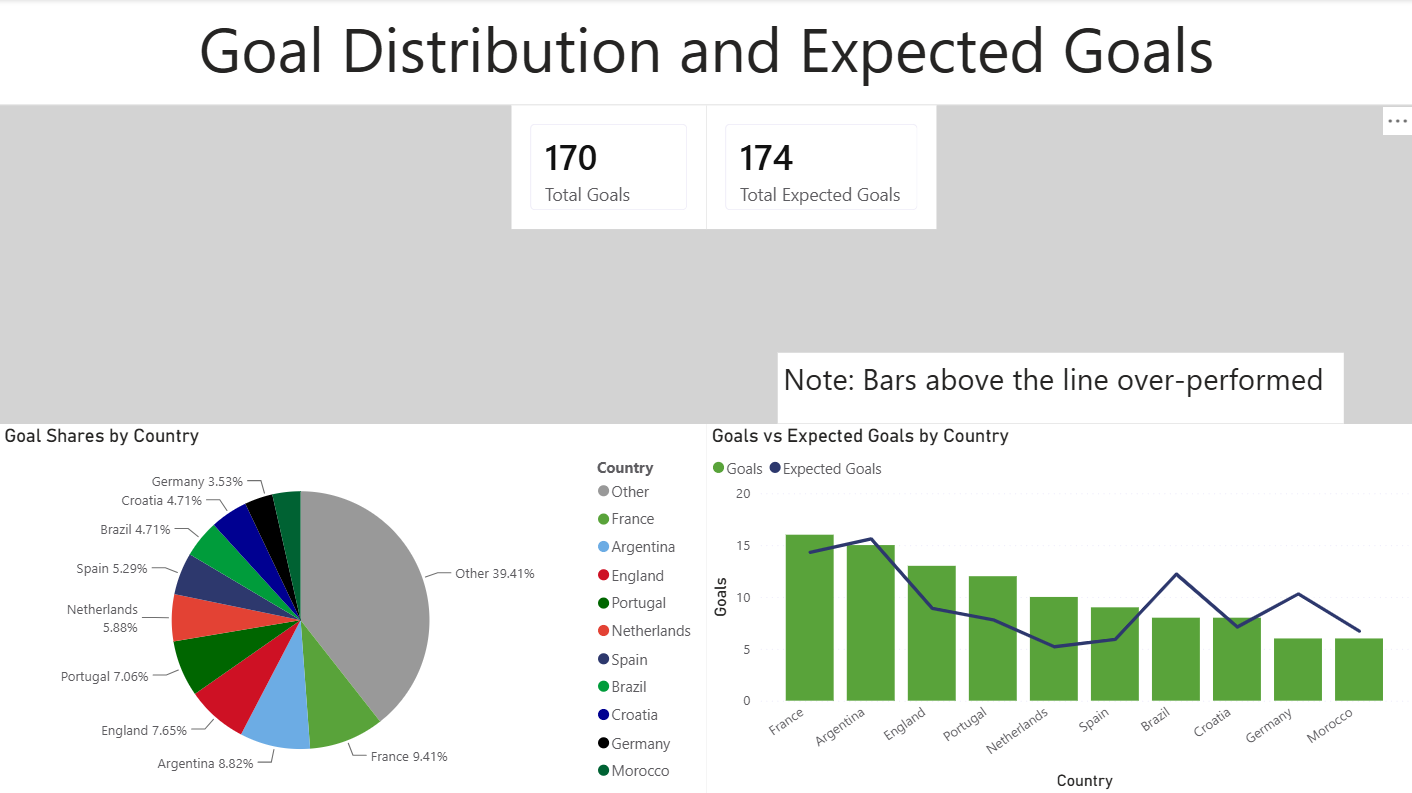

What the dashboard file says about the page in this screenshot:
{"tool":"powerbi","page":{"name":"Team Goal Stats","canvas":[1280,720],"ordinal":3},"visuals":[{"type":"pieChart","title":"Goal Shares by Country","fields":{"Y":["Sum(cupData.goals)"],"Category":["Team Rank.TeamDisplay"]},"box":[0,384,640,336],"z":0},{"type":"lineClusteredColumnComboChart","title":"Goals vs Expected Goals by Country","fields":{"Category":["cupData.team"],"Y2":["Sum(cupData.xg)"],"Y":["Sum(cupData.goals)"]},"box":[640,384,640,336],"z":1000},{"type":"cardVisual","fields":{"Data":["Sum(cupData.goals)"]},"box":[464,96,176,112],"z":2000},{"type":"cardVisual","fields":{"Data":["Sum(cupData.xg)"]},"box":[640,96,208,112],"z":3000},{"type":"textbox","box":[0,0,1280,96],"z":3001},{"type":"textbox","box":[704,320,512,64],"z":3002}]}

Visuals, with their boxes in screenshot pixels (x1, y1, x2, y2), scaled from the page's 1280x720 canvas onto the 1412x793 screenshot:
"Goal Shares by Country" pieChart: [x1=0, y1=423, x2=706, y2=792]
"Goals vs Expected Goals by Country" lineClusteredColumnComboChart: [x1=706, y1=423, x2=1411, y2=792]
cardVisual - Sum(cupData.goals): [x1=512, y1=106, x2=706, y2=229]
cardVisual - Sum(cupData.xg): [x1=706, y1=106, x2=935, y2=229]
textbox: [x1=0, y1=0, x2=1411, y2=106]
textbox: [x1=777, y1=352, x2=1341, y2=423]
